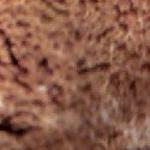alive: (4, 3, 146, 145)
